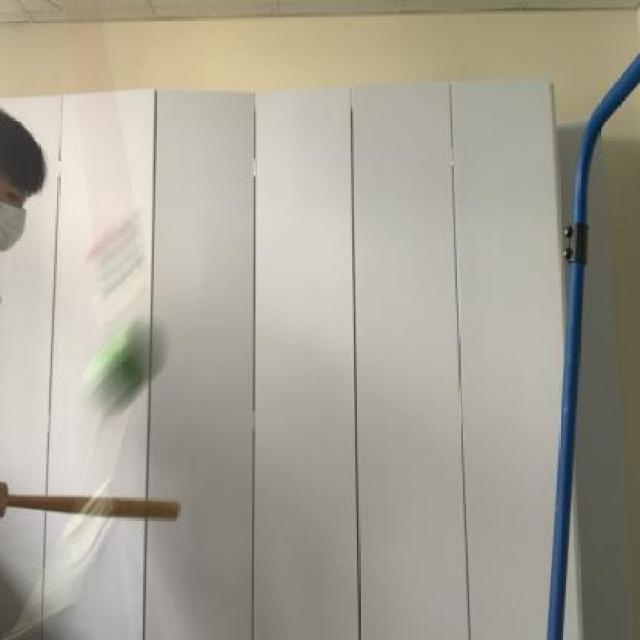baseball: (84, 315, 174, 403)
